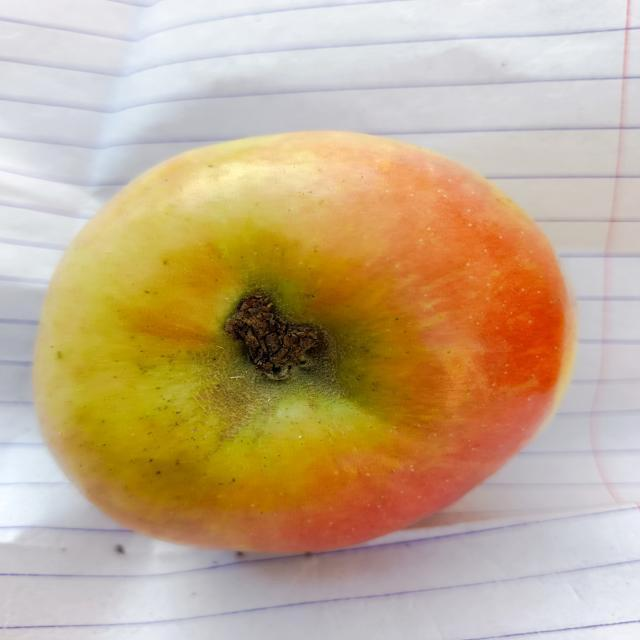Fresh Apple: (35, 122, 575, 552)
